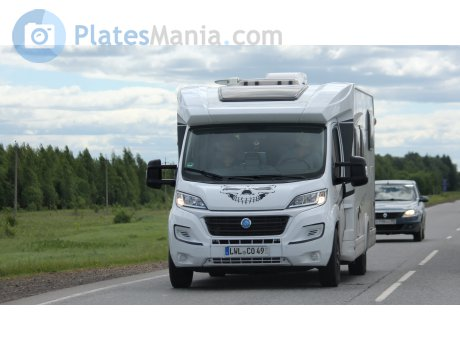License Plates: (223, 244, 267, 255)
